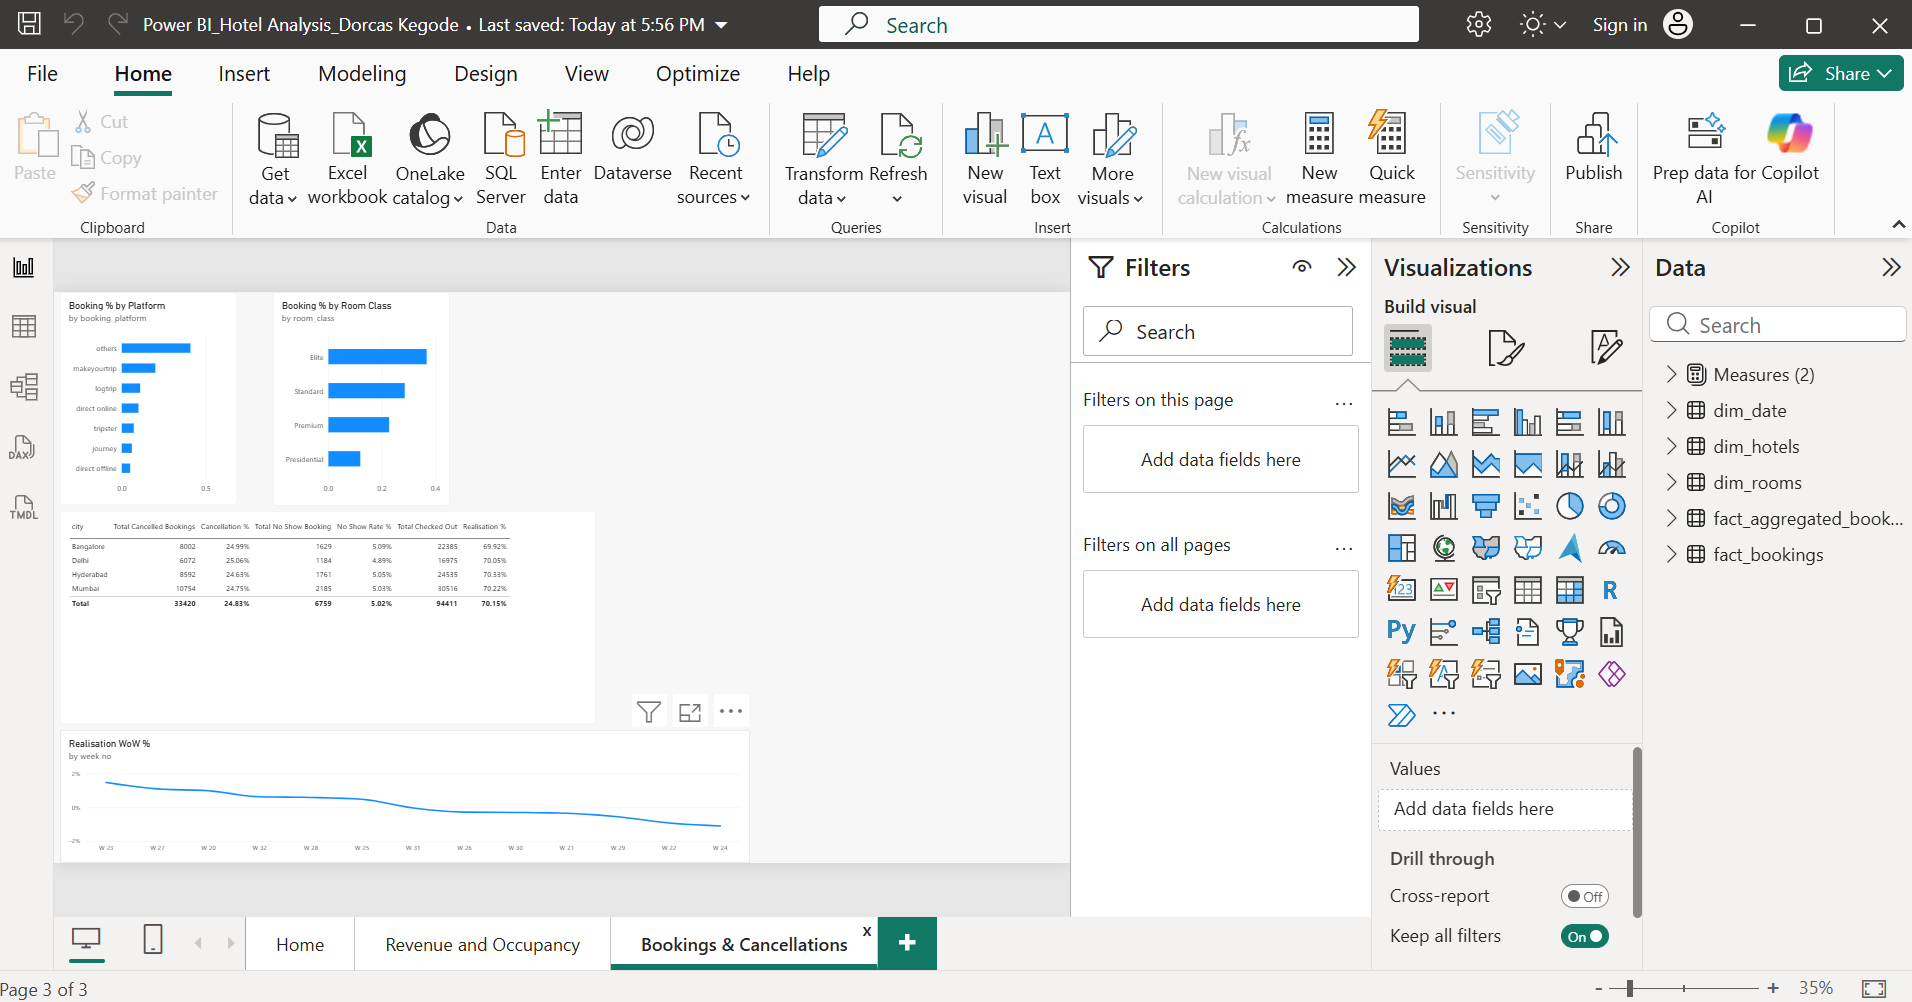

The page's visual inventory and layout, read from the dashboard file:
{"tool":"powerbi","page":{"name":"Bookings & Cancellations","canvas":[1920,1080],"ordinal":2},"visuals":[{"type":"clusteredBarChart","fields":{"Category":["fact_bookings.booking_platform"],"Y":["Measures (2).Booking % by Platform"]},"box":[11.3,0,334.5,402.5],"z":0},{"type":"clusteredBarChart","fields":{"Category":["dim_rooms.room_class"],"Y":["Measures (2).Booking % by Room Class"]},"box":[413.9,0,334,403],"z":1},{"type":"tableEx","fields":{"Values":["dim_hotels.city","Measures (2).Total Cancelled Bookings","Measures (2).Cancellation %","Measures (2).Total No Show Booking","Measures (2).No Show Rate %","Measures (2).Total Checked Out","Measures (2).Realisation %"]},"box":[11.3,413.9,1012,402.5],"z":2},{"type":"lineChart","fields":{"Category":["dim_date.week no"],"Y":["Measures (2).Realisation WoW %"]},"box":[11.3,827.7,1303.9,252.3],"z":3}]}

Visuals, with their boxes on the page's 1920x1080 design canvas (x1, y1, x2, y2). These are canvas units, not pixel positions in the 1912x1002 screenshot, which may show the page scaled, cropped or inside an application window:
clusteredBarChart - fact_bookings.booking_platform x Measures (2).Booking % by Platform: (x1=11, y1=0, x2=346, y2=402)
clusteredBarChart - dim_rooms.room_class x Measures (2).Booking % by Room Class: (x1=414, y1=0, x2=748, y2=403)
tableEx - dim_hotels.city x Measures (2).Total Cancelled Bookings: (x1=11, y1=414, x2=1023, y2=816)
lineChart - dim_date.week no x Measures (2).Realisation WoW %: (x1=11, y1=828, x2=1315, y2=1080)
